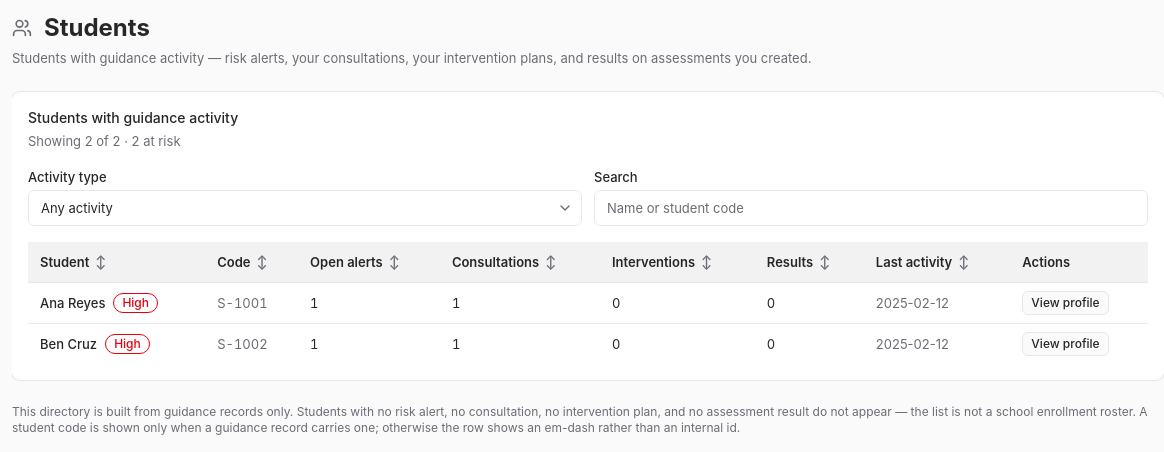
Test: StudentsPage › searches by name and by code
The image size is (1164, 452).
Check: the text "Ana Reyes" is shown, box [40,293,105,313]
Type "S-1002" into the search field labelled "Search" at (871, 208), box [594,190,1148,226]
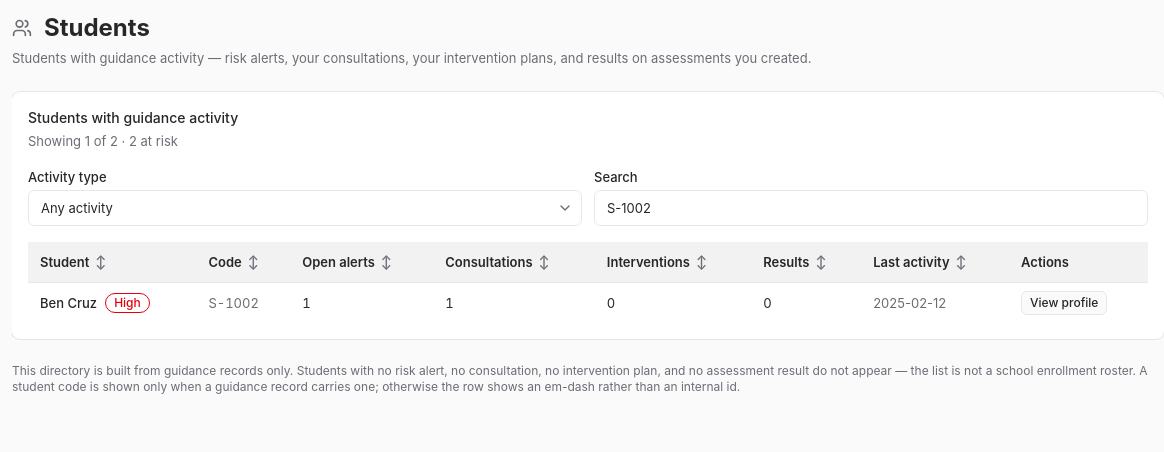
Check: the text "Ben Cruz" is shown, box [40,293,97,313]
Check: the text "Ana Reyes" is gone
